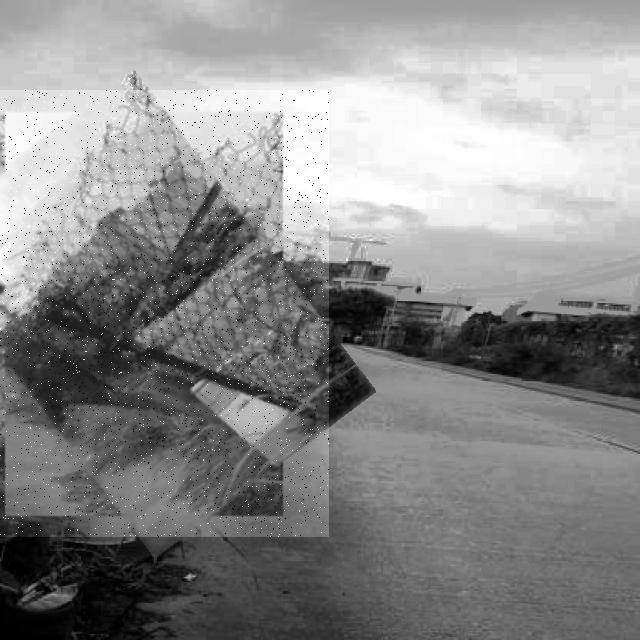anomaly-fence: (0, 90, 329, 537)
